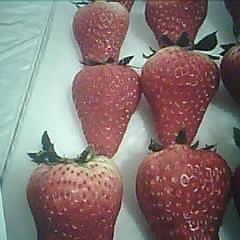straw-ripe: (136, 148, 231, 240), (27, 154, 123, 240), (142, 49, 219, 149), (72, 61, 139, 156), (73, 3, 128, 63)
